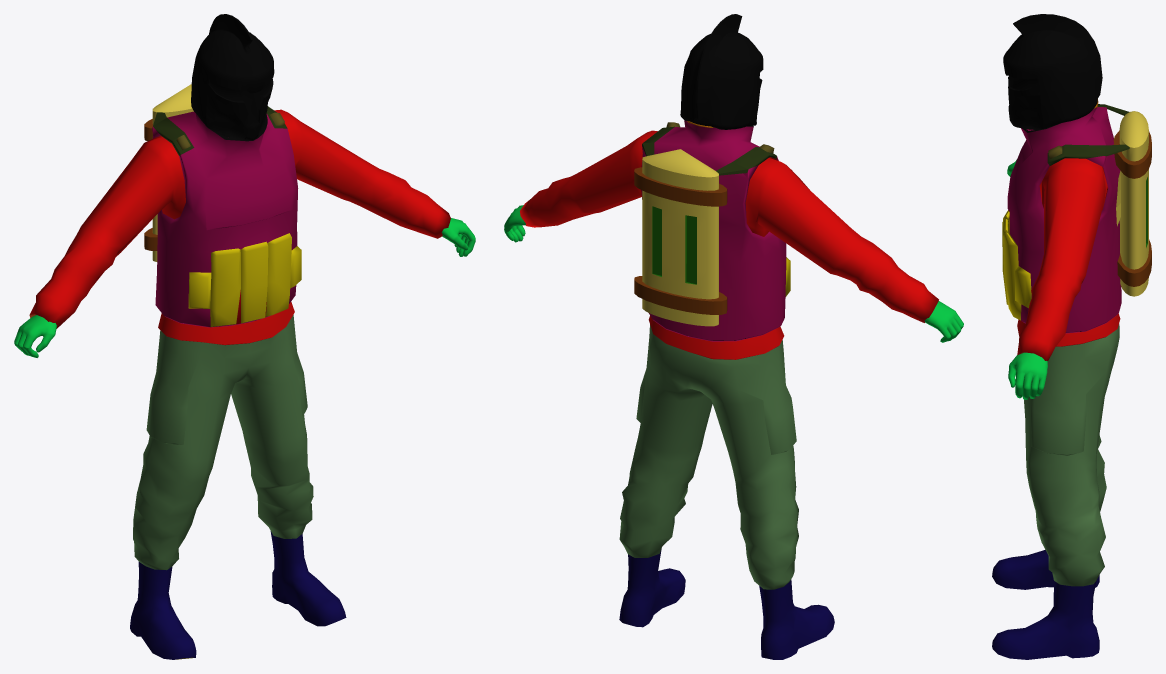
The model's file is Soldier_Painted_Fixed_test3.fbx.
3 views of the same model, side by side, from view 1: azimuth 30°, elevation 25°; view 2: azimuth 150°, elevation 25°; view 3: azimuth 270°, elevation 25° (orthographic).
Visible parts, largest first — view 1: pCylinder6; view 2: pCylinder6; view 3: pCylinder6.
Part boxes in pixels (x1=…): pCylinder6: x1=14, y1=14, x2=475, y2=659; pCylinder6: x1=504, y1=14, x2=963, y2=659; pCylinder6: x1=992, y1=14, x2=1151, y2=659.
Size of the model in its own units: 146 by 187 by 44.92.
